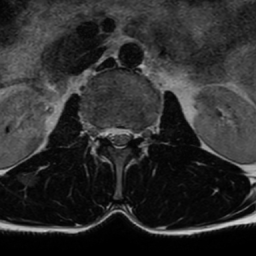CCS_normal: (115, 115, 123, 158)
LFS_normal: (133, 119, 142, 148)
LLS_normal: (123, 116, 133, 151)
RFS_normal: (95, 116, 105, 147)
RLS_normal: (105, 115, 115, 150)
